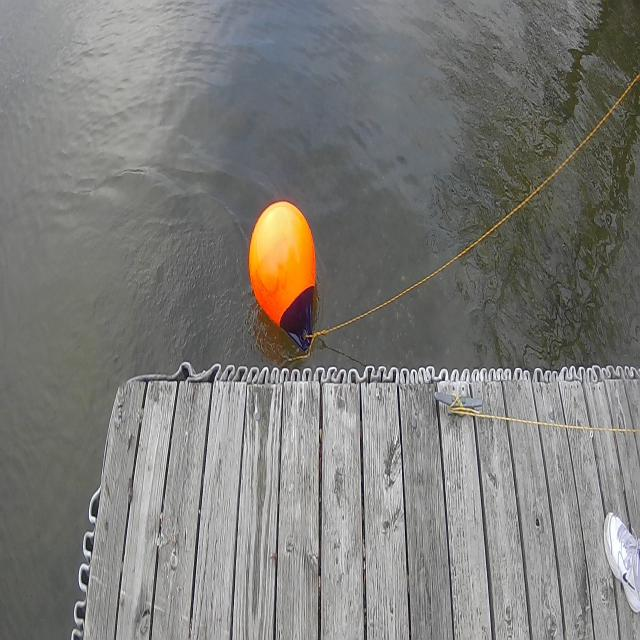Buoy: (249, 197, 317, 329)
